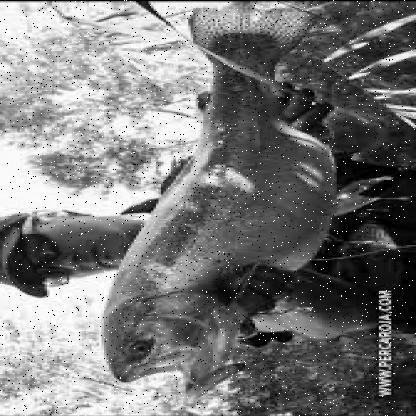fish: (100, 7, 338, 394)
